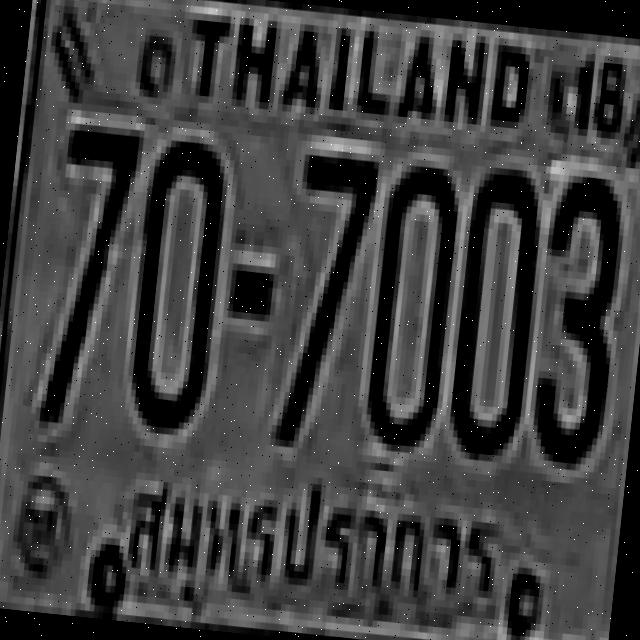0: (119, 130, 228, 430), (359, 156, 458, 448), (444, 162, 543, 454)
3: (526, 166, 624, 458)
7: (35, 118, 140, 424), (273, 147, 377, 446), (45, 115, 140, 326), (284, 147, 374, 358)
SamutPrakan: (108, 456, 516, 626)
